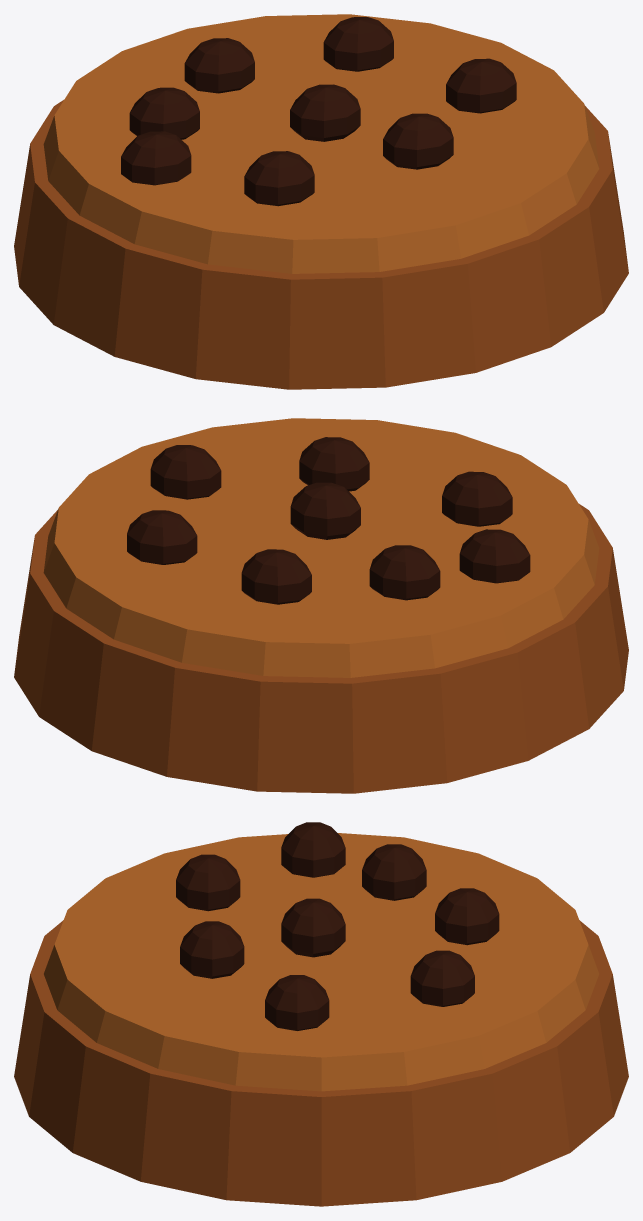
Rendered from Cookie_Obstacle.obj.
The picture shows the model from 3 angles, top to bottom: view 1: azimuth 30°, elevation 25°; view 2: azimuth 150°, elevation 25°; view 3: azimuth 270°, elevation 25°; orthographic projection.
Visible parts, largest first — view 1: CookieTopCrust, CookieBase, ChocolateChip_8, ChocolateChip_5, ChocolateChip_2, ChocolateChip_6, ChocolateChip_3, ChocolateChip_4, ChocolateChip_7, ChocolateChip_1; view 2: CookieTopCrust, CookieBase, ChocolateChip_8, ChocolateChip_1, ChocolateChip_2, ChocolateChip_6, ChocolateChip_3, ChocolateChip_4, ChocolateChip_7, ChocolateChip_5; view 3: CookieTopCrust, CookieBase, ChocolateChip_8, ChocolateChip_5, ChocolateChip_2, ChocolateChip_1, ChocolateChip_6, ChocolateChip_3, ChocolateChip_4, ChocolateChip_7.
Part boxes in pixels (x1,y1,x2,y2): CookieTopCrust: [43, 14, 599, 273]; CookieBase: [14, 100, 628, 389]; ChocolateChip_8: [290, 84, 360, 141]; ChocolateChip_5: [383, 113, 453, 169]; ChocolateChip_2: [184, 38, 254, 93]; ChocolateChip_6: [244, 151, 314, 206]; ChocolateChip_3: [323, 17, 393, 71]; ChocolateChip_4: [446, 58, 516, 113]; ChocolateChip_7: [121, 131, 191, 185]; ChocolateChip_1: [129, 87, 199, 139]; CookieTopCrust: [43, 418, 599, 677]; CookieBase: [14, 504, 628, 793]; ChocolateChip_8: [290, 482, 360, 539]; ChocolateChip_1: [369, 545, 440, 600]; ChocolateChip_2: [241, 549, 311, 604]; ChocolateChip_6: [442, 471, 512, 526]; ChocolateChip_3: [127, 510, 197, 564]; ChocolateChip_4: [150, 445, 221, 499]; ChocolateChip_7: [459, 529, 530, 583]; ChocolateChip_5: [299, 437, 369, 491]; CookieTopCrust: [44, 833, 598, 1091]; CookieBase: [14, 920, 628, 1206]; ChocolateChip_8: [281, 898, 345, 957]; ChocolateChip_5: [180, 921, 244, 978]; ChocolateChip_2: [435, 888, 499, 945]; ChocolateChip_1: [362, 844, 426, 900]; ChocolateChip_6: [176, 854, 240, 911]; ChocolateChip_3: [410, 950, 474, 1006]; ChocolateChip_4: [265, 975, 329, 1030]; ChocolateChip_7: [281, 822, 345, 877].
Size of the model in its own units: 1.52 by 0.475 by 1.52.
